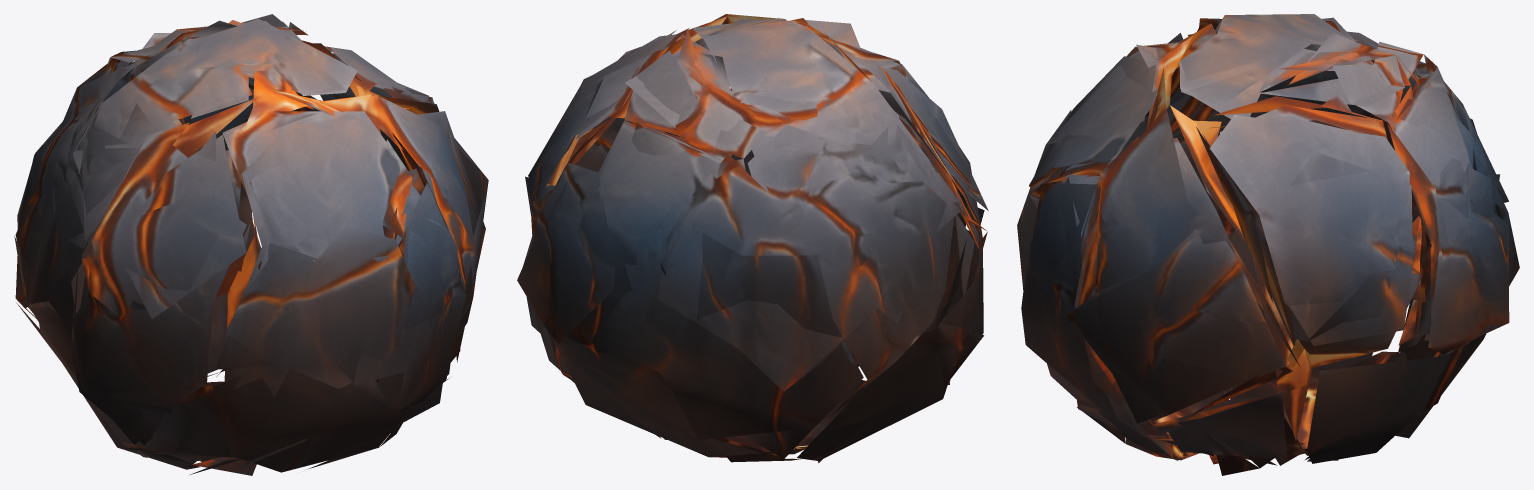
The model's file is D1-root_seed-runtime.glb.
3 renders of one model, left to right at view 1: azimuth 30°, elevation 25°; view 2: azimuth 150°, elevation 25°; view 3: azimuth 270°, elevation 25°, orthographic. The views are drawn at different scales.
Parts seen in each view (by area): view 1: world; view 2: world; view 3: world.
Part boxes in pixels (left/top/right/bottom): world: left=14, top=14, right=488, bottom=475; world: left=517, top=14, right=988, bottom=463; world: left=1017, top=14, right=1519, bottom=475.
Size of the model in its own units: 0.08 by 0.0747 by 0.0824.
Materials: 1 (1 with a texture image).
